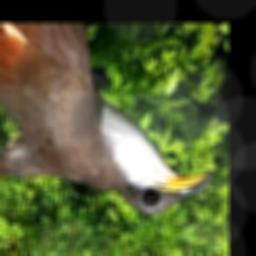Cuckoo: (0, 24, 211, 215)
